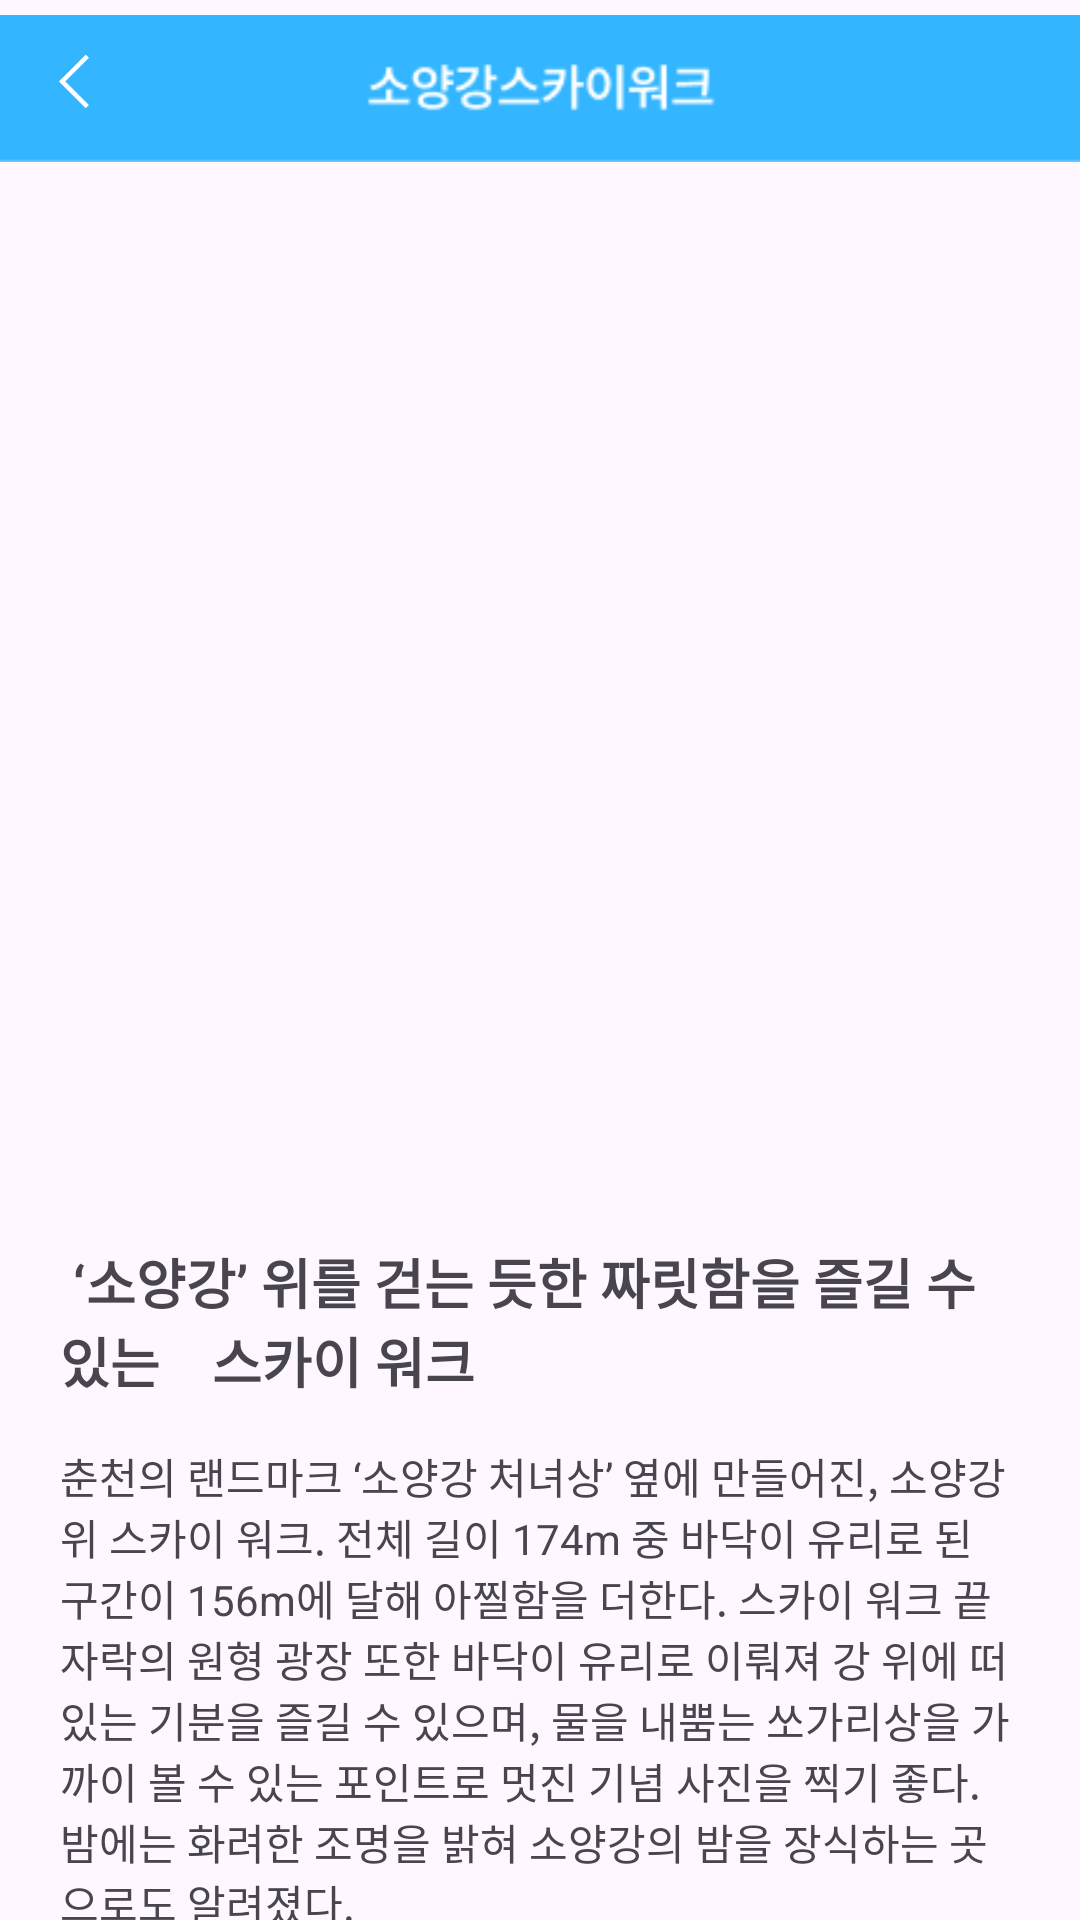

Named icons in this screenshot (1080px x 1920px) and their centers, (x,y):
back: (74,81)
